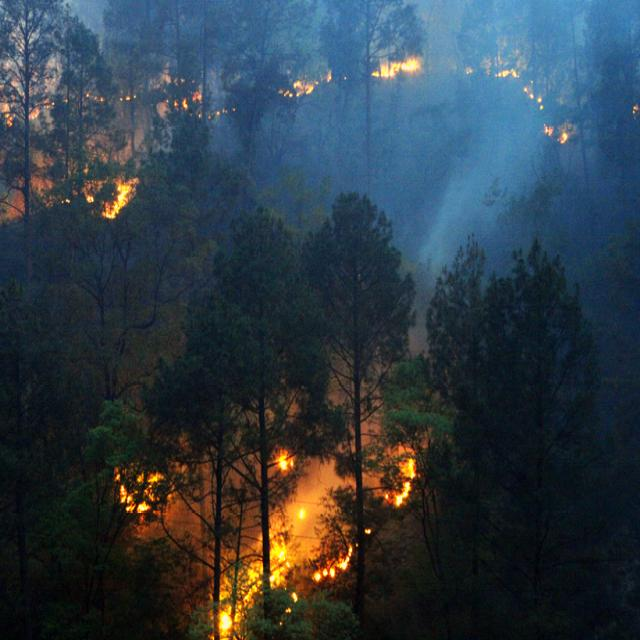Fire: (212, 539, 287, 640), (496, 61, 548, 110), (97, 175, 140, 221), (314, 542, 352, 594), (388, 454, 416, 520), (370, 58, 422, 86), (542, 126, 572, 146)
Smoke: (414, 126, 517, 280)
